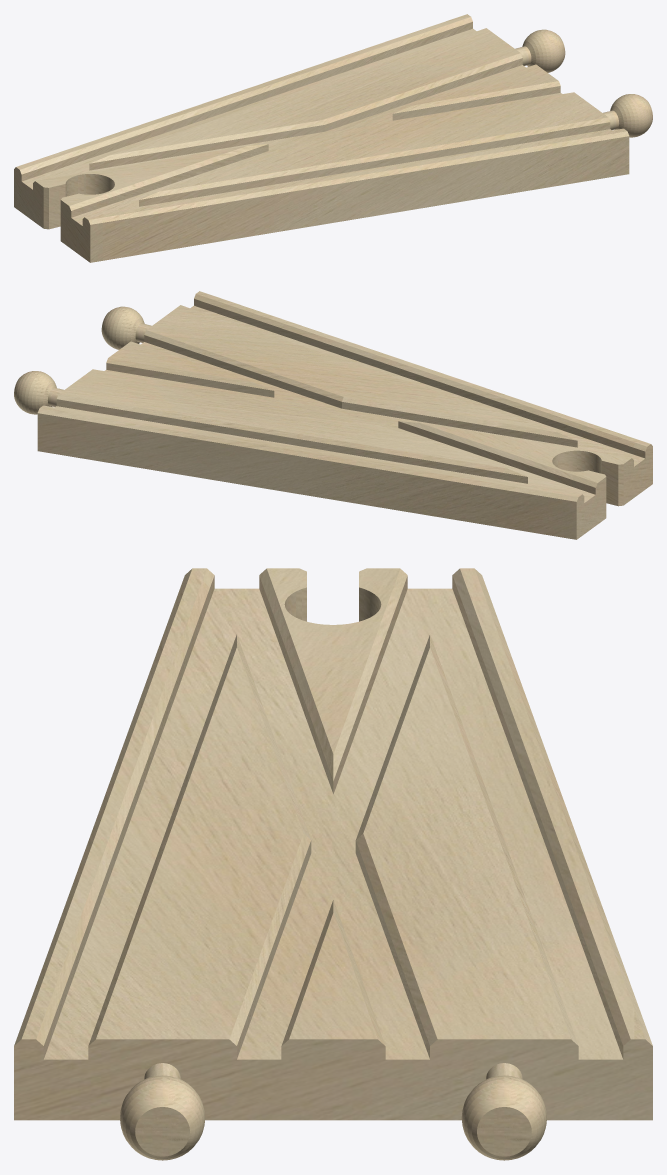
3 renders of one model, top to bottom at view 1: azimuth 30°, elevation 25°; view 2: azimuth 150°, elevation 25°; view 3: azimuth 270°, elevation 25°, orthographic. The views are drawn at different scales.
Visible parts, largest first — view 1: SketchUp, _3d_peg (×2); view 2: SketchUp, _3d_peg (×2); view 3: SketchUp, _3d_peg (×2).
Boxes of the visible parts, bbox=[...] form: SketchUp: bbox=[14, 14, 629, 262]; _3d_peg (×2): bbox=[515, 29, 652, 137]; SketchUp: bbox=[37, 291, 652, 539]; _3d_peg (×2): bbox=[14, 306, 151, 414]; SketchUp: bbox=[14, 568, 652, 1120]; _3d_peg (×2): bbox=[120, 1063, 546, 1160].
Bounding box in the file's own units: 6.56 × 3.39 × 0.4724.
